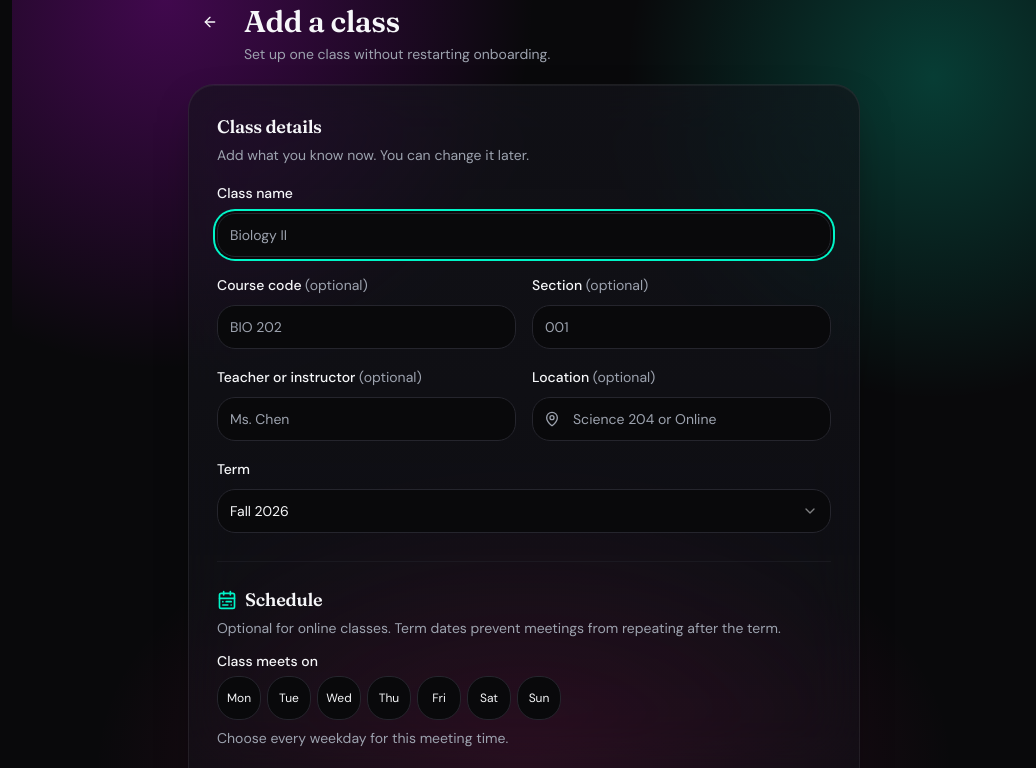
Test case: ClassEditorPage identity and navigation › creates with a stable draft id that does not depend on the class name
In the field labelled "Class name": (524, 235) x1=217 y1=213 x2=831 y2=257, type "Biology"
(page scrolled)
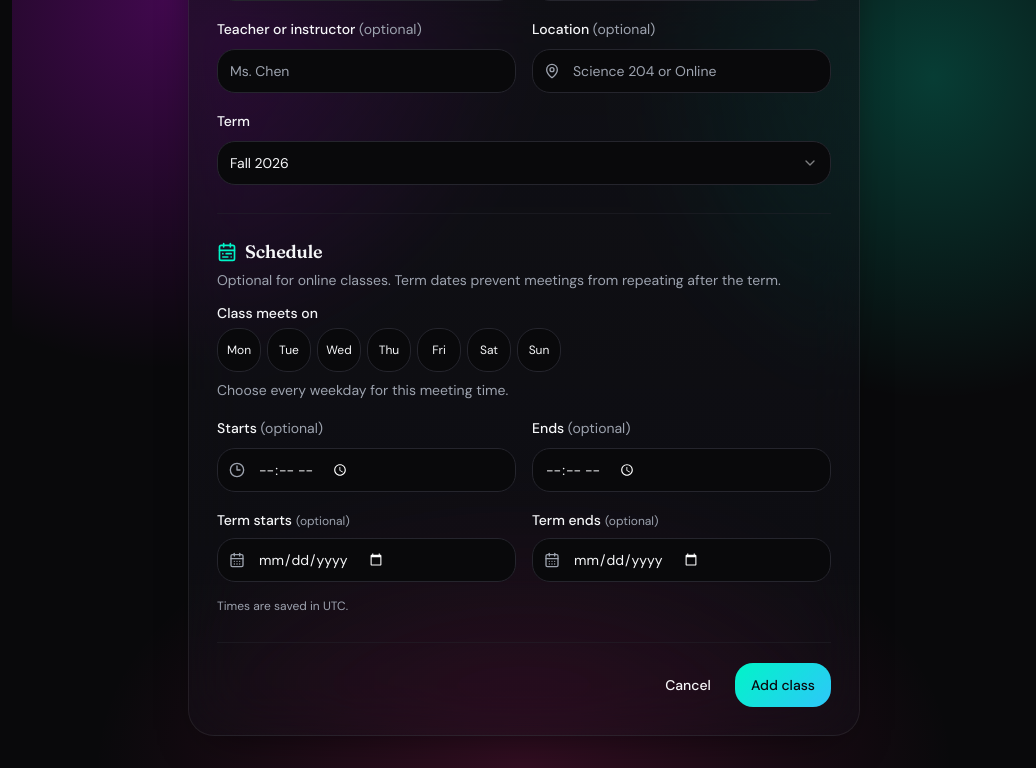
Click the button "Add class": (783, 685) x1=735 y1=663 x2=831 y2=707
(page scrolled)
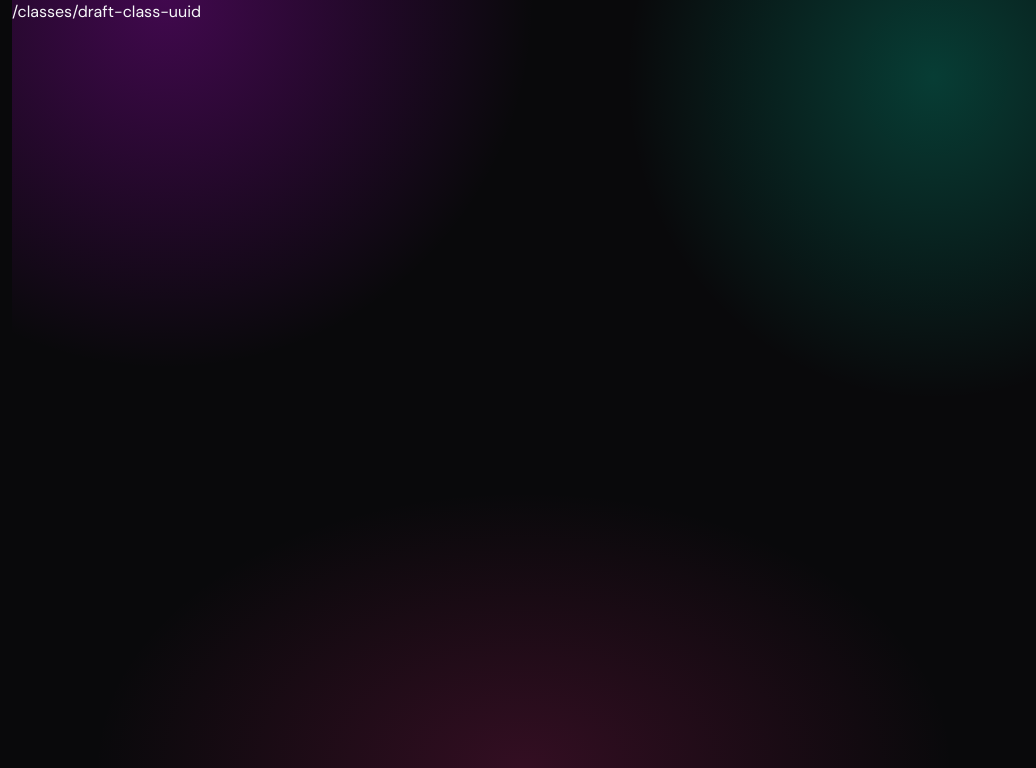
Result: the text with test id "location" reads "/classes/draft-class-uuid" at x1=12 y1=1 x2=201 y2=22
